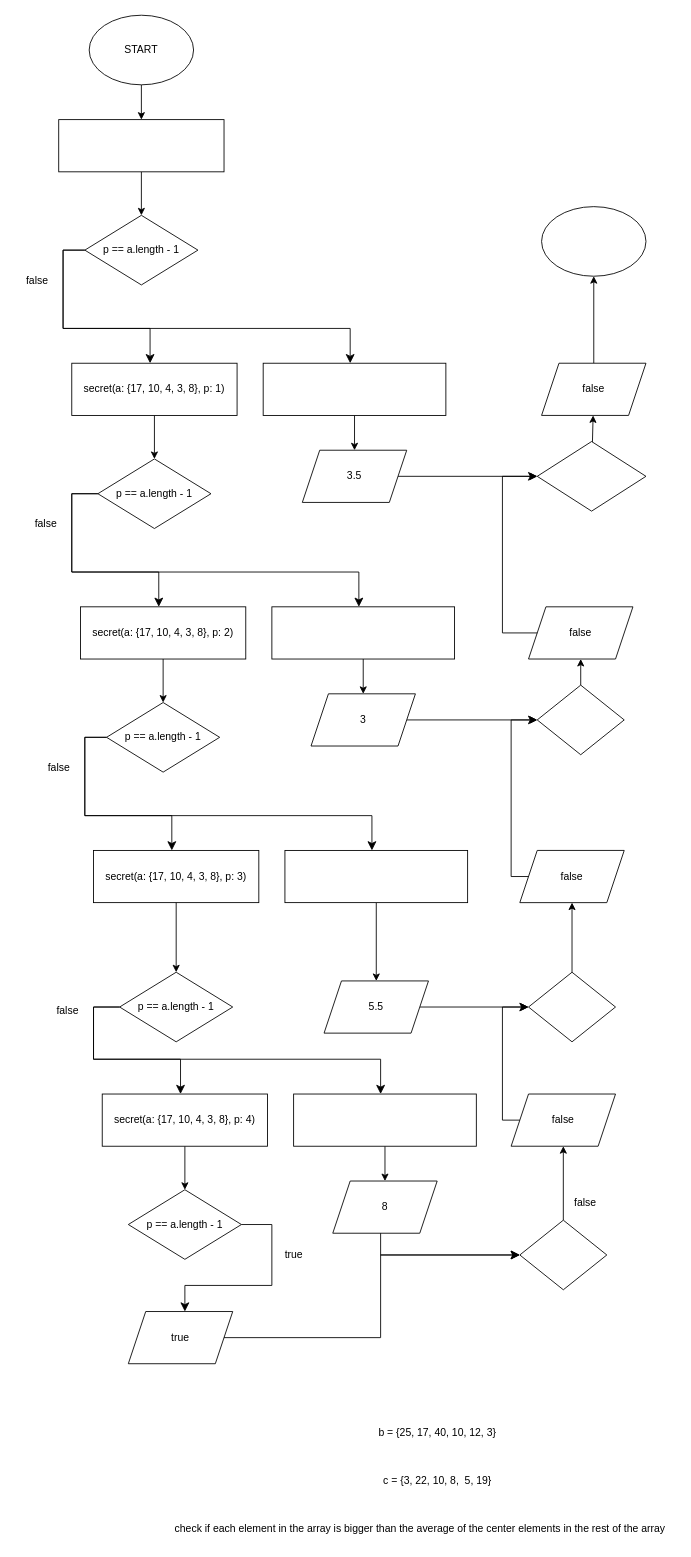
The diagram is 691 pixels wide and 1557 high, and some of its shapes have lost their labels. Each missing label, with the centre of its shape:
"10 > 3 && false" belongs at [580,719].
"17 > 3.5 && false" belongs at [591,476].
"3 > 8 && true" belongs at [563,1254].
"4 > 5.5 && false" belongs at [572,1006].
"check(a: {17, 10, 4, 3, 8}, p: 1, q: 4)" belongs at [354,388].
"check(a: {17, 10, 4, 3, 8}, p: 2, q: 4)" belongs at [363,632].
"check(a: {17, 10, 4, 3, 8}, p: 3, q: 4)" belongs at [376,876].
"check(a: {17, 10, 4, 3, 8}, p: 4, q: 4)" belongs at [384,1119].
"END" belongs at [593,241].
"secret(a: {17, 10, 4, 3, 8}, p: 0)" belongs at [141,145].
